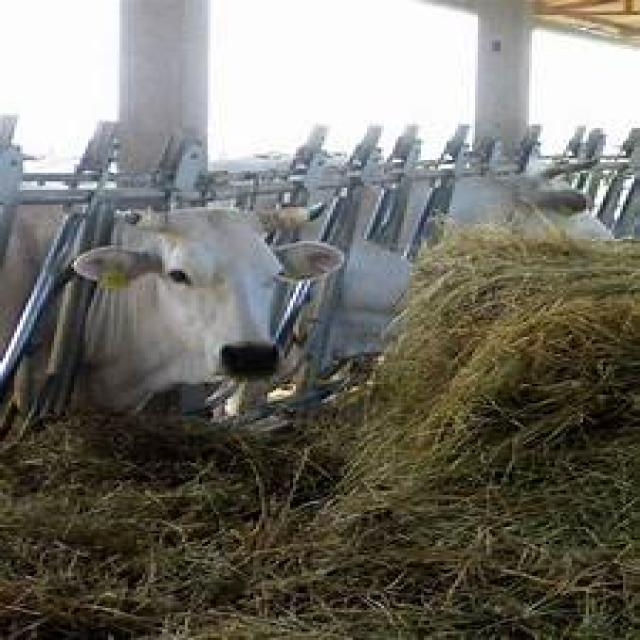cow: (11, 207, 299, 422)
